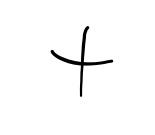plus: (51, 24, 113, 98)
